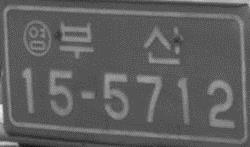-: (79, 87, 97, 102)
1: (175, 75, 195, 128), (19, 66, 38, 114)
2: (206, 79, 235, 129)
5: (46, 68, 76, 117), (101, 71, 130, 120)
7: (134, 72, 163, 125)
부산_D: (58, 17, 185, 66)
영: (22, 19, 54, 58)
